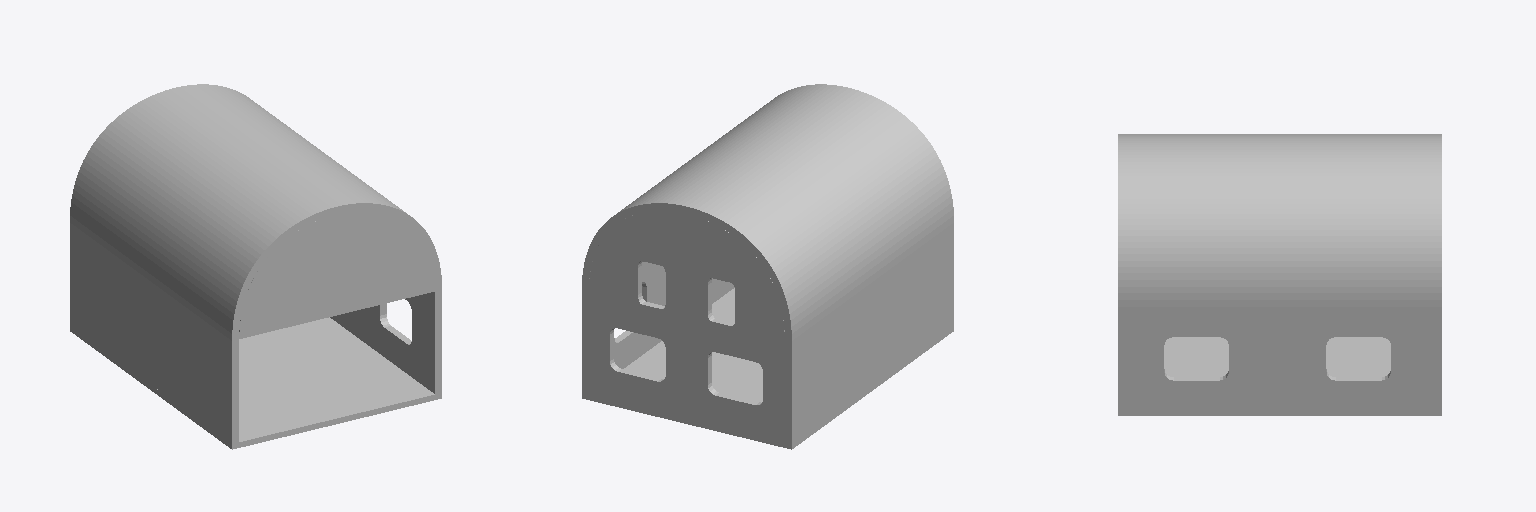
The picture shows the model from 3 angles: view 1: azimuth 30°, elevation 25°; view 2: azimuth 150°, elevation 25°; view 3: azimuth 270°, elevation 25°; orthographic projection.
Parts seen in each view (by area): view 1: object_6, object_4, object_5, object_7, object_3; view 2: object_6, object_2, object_4, object_1, object_5, object_3; view 3: object_6, object_3, object_5, object_2.
Boxes of the visible parts, <box> form: object_6: <box>70,84,441,340</box>; object_4: <box>74,226,238,443</box>; object_5: <box>70,317,441,449</box>; object_7: <box>239,211,434,338</box>; object_3: <box>330,290,441,393</box>; object_6: <box>582,84,953,340</box>; object_2: <box>582,290,795,443</box>; object_4: <box>796,223,953,440</box>; object_1: <box>589,211,784,338</box>; object_5: <box>582,288,953,449</box>; object_3: <box>614,262,734,368</box>; object_6: <box>1118,134,1441,306</box>; object_3: <box>1118,307,1433,409</box>; object_5: <box>1118,337,1441,415</box>; object_2: <box>1434,307,1441,409</box>.
Bounding box in the file's own units: 7.97 × 7.88 × 10.66.